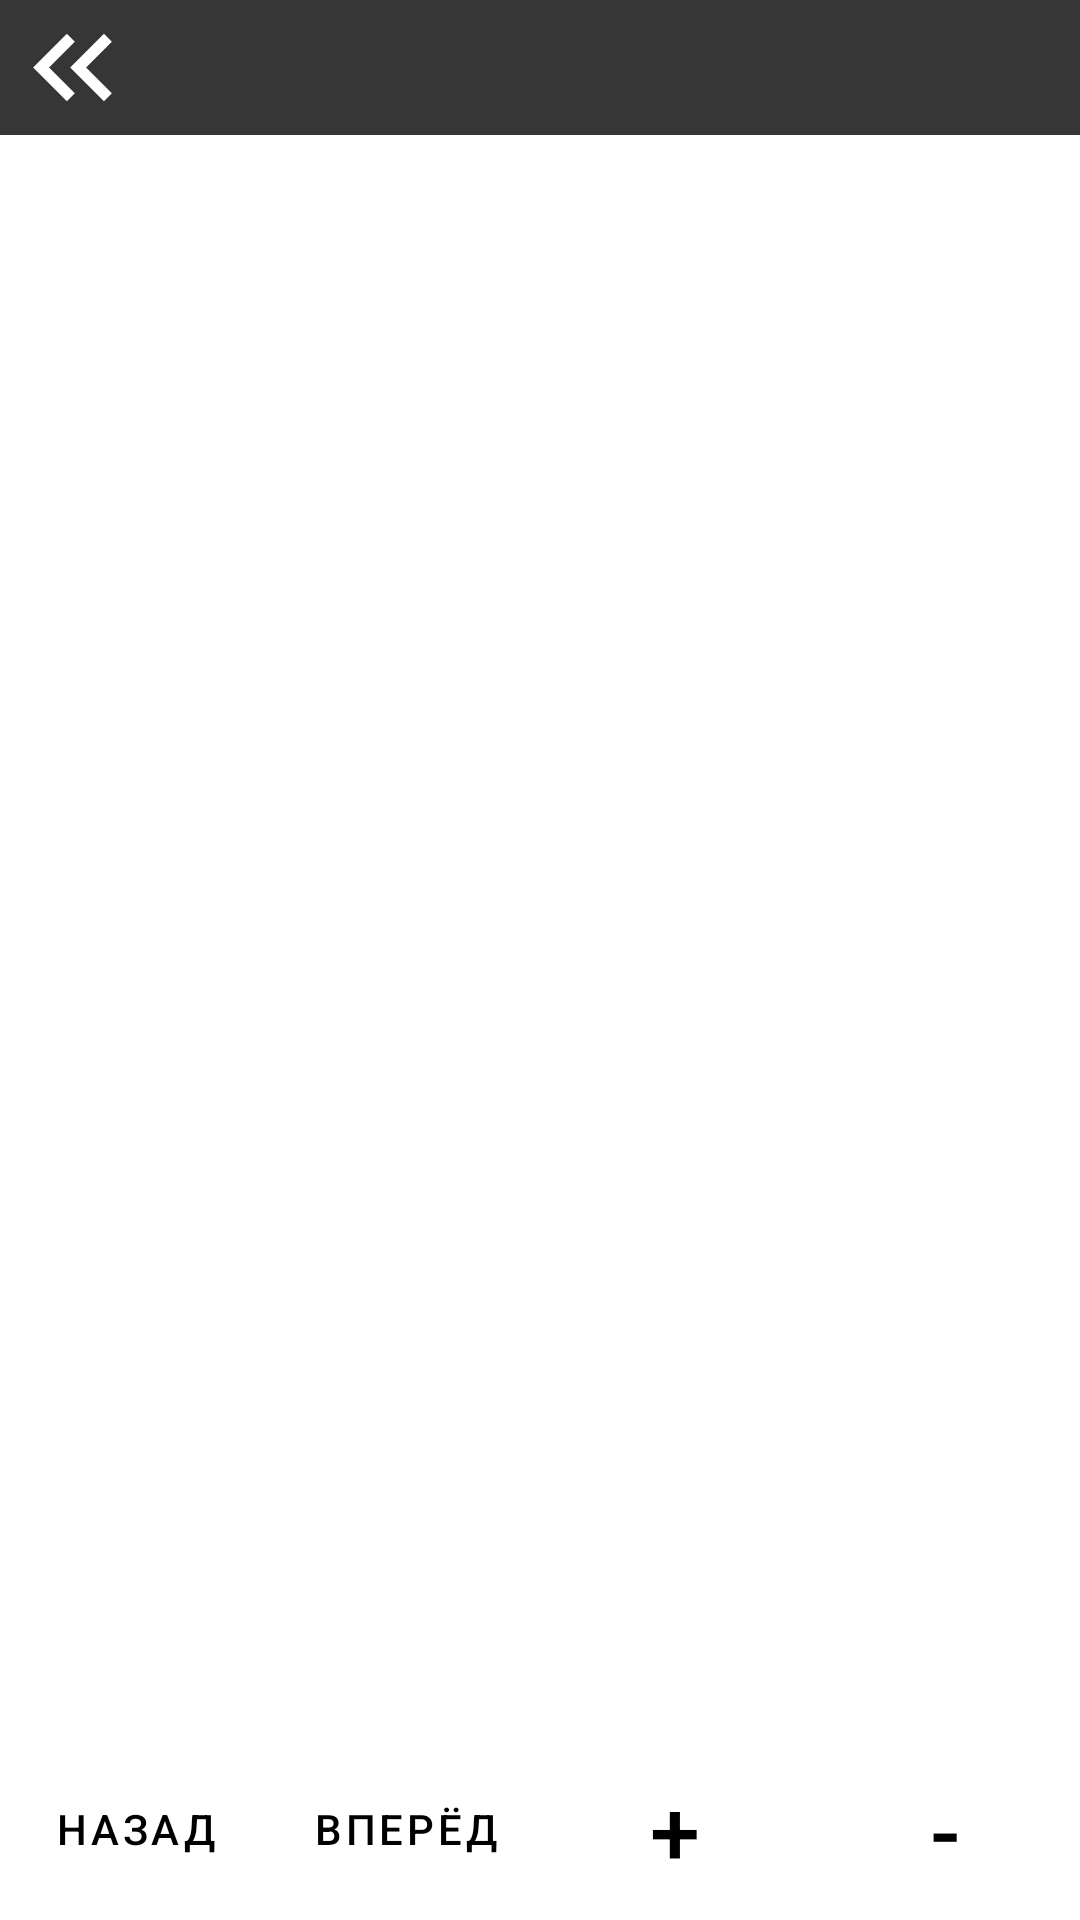

Icons on this 1080 × 1920 Android screen, each with the point to tap as [x,y]:
back: [72,67]
